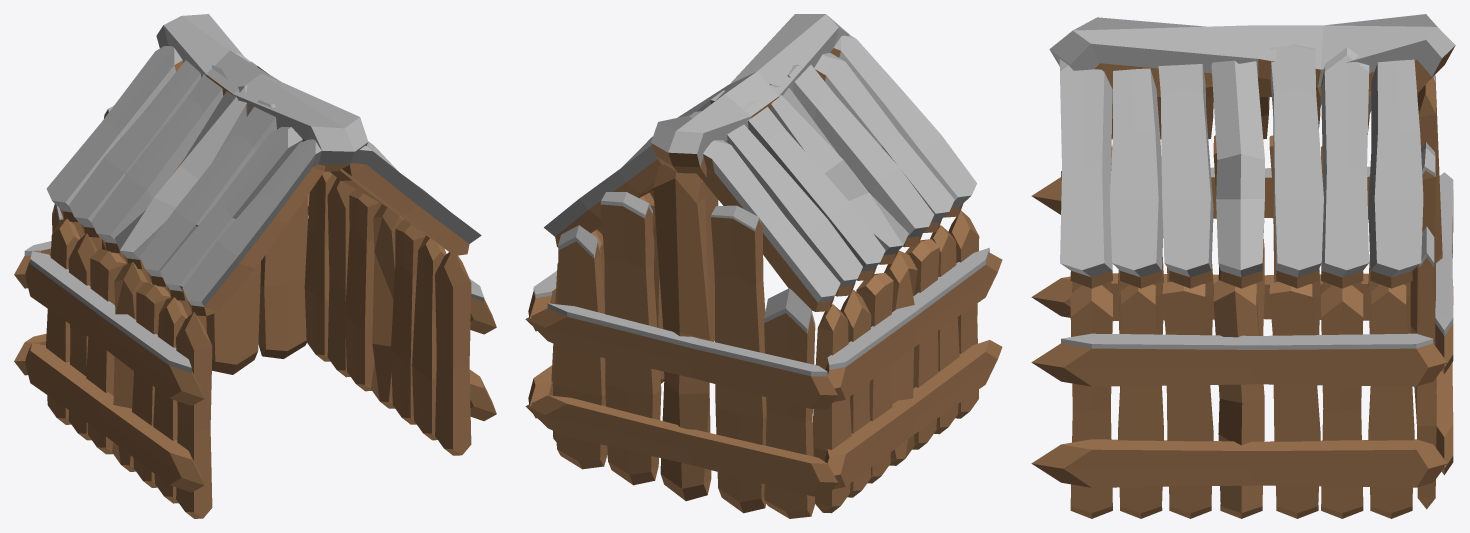
The model's file is Hut_1 winter.fbx.
3 renders of one model, left to right at view 1: azimuth 30°, elevation 25°; view 2: azimuth 150°, elevation 25°; view 3: azimuth 270°, elevation 25°, orthographic. The views are drawn at different scales.
Parts seen in each view (by area): view 1: HutWinter_mesh; view 2: HutWinter_mesh; view 3: HutWinter_mesh.
Part boxes in pixels (left/top/right/bottom): HutWinter_mesh: left=14, top=14, right=496, bottom=518; HutWinter_mesh: left=525, top=14, right=1002, bottom=518; HutWinter_mesh: left=1031, top=14, right=1455, bottom=518.
Size of the model in its own units: 431 by 486 by 431.
